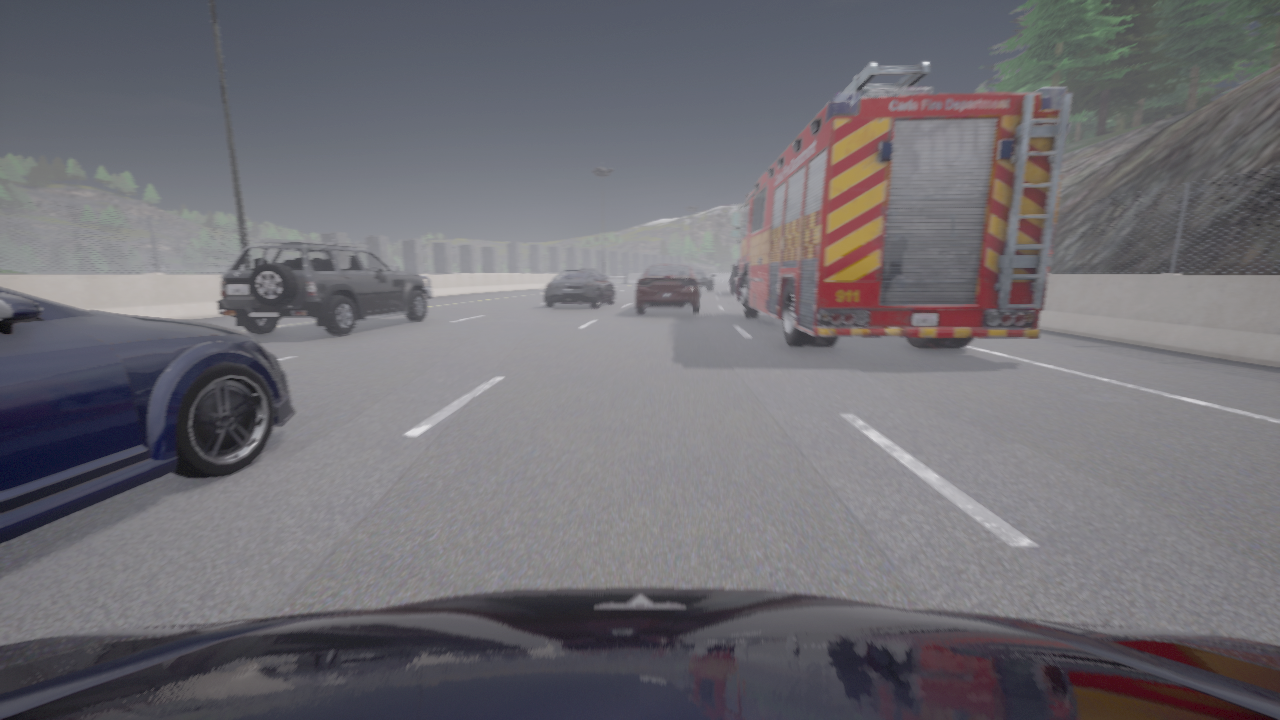cyclist: (0, 588, 1279, 719), (730, 61, 1071, 348), (216, 241, 431, 335), (636, 263, 702, 314), (543, 269, 614, 307), (693, 269, 714, 291), (729, 261, 739, 294), (601, 275, 603, 276)
